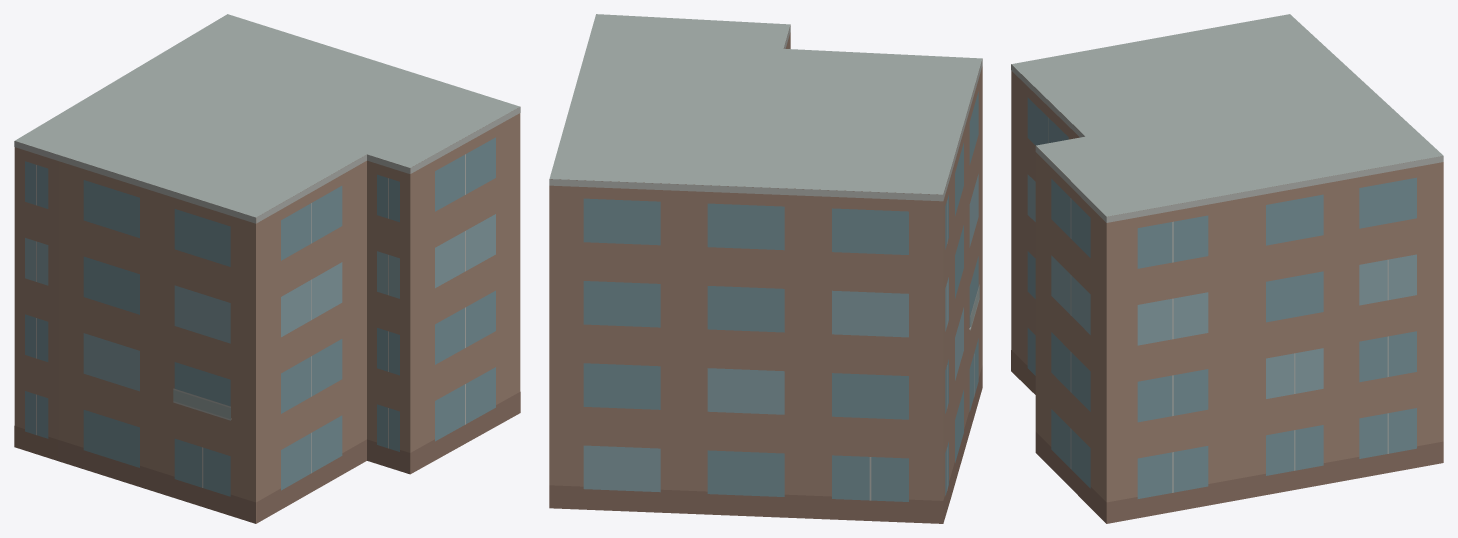
File: survey-upis-32582929.glb
The picture shows the model from 3 angles, left to right: view 1: azimuth 30°, elevation 25°; view 2: azimuth 150°, elevation 25°; view 3: azimuth 270°, elevation 25°; orthographic projection. The views are drawn at different scales.
Parts seen in each view (by area): view 1: survey-upis-32582929.tmp; view 2: survey-upis-32582929.tmp; view 3: survey-upis-32582929.tmp.
Boxes of the visible parts, x1,y1,x2,y2 form: survey-upis-32582929.tmp: [14, 14, 520, 523]; survey-upis-32582929.tmp: [549, 14, 982, 523]; survey-upis-32582929.tmp: [1011, 14, 1443, 523].
Bounding box in the file's own units: 17.1 × 12.07 × 15.42.
